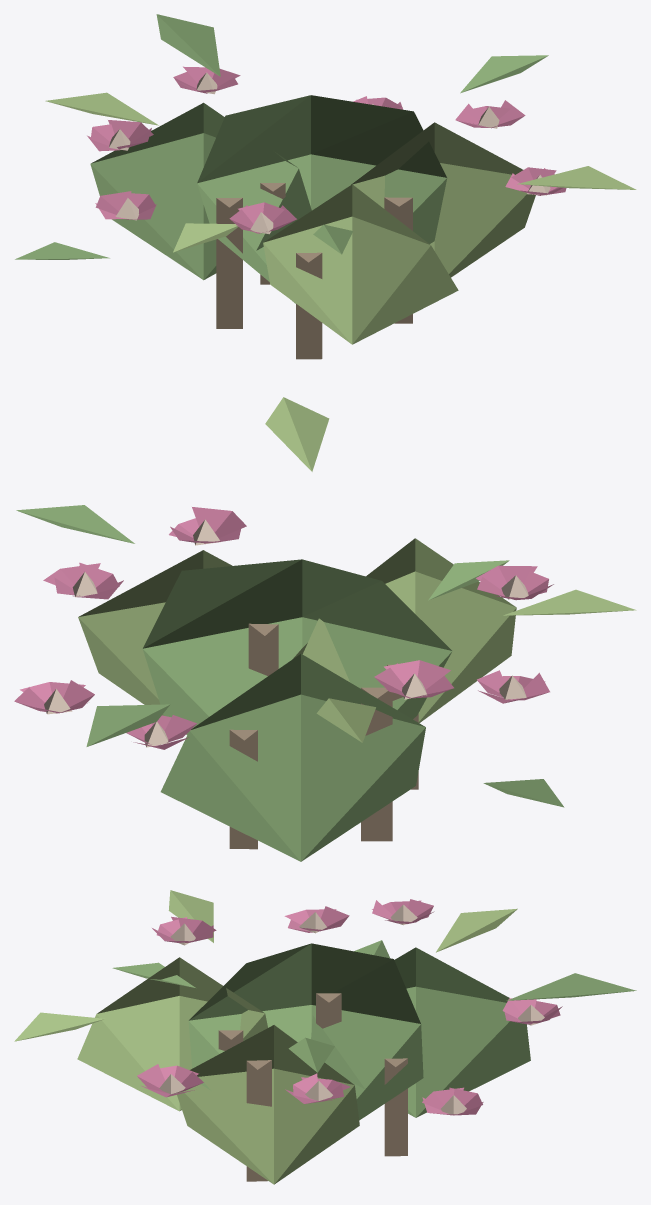
File: guan.aili@flowering__spring.glb
3 renders of one model, top to bottom at view 1: azimuth 30°, elevation 25°; view 2: azimuth 150°, elevation 25°; view 3: azimuth 270°, elevation 25°, orthographic. The views are drawn at different scales.
Visible parts, largest first — view 1: guan.aili@flowering__spring; view 2: guan.aili@flowering__spring; view 3: guan.aili@flowering__spring.
Boxes of the visible parts, x1,y1,x2,y2 form: guan.aili@flowering__spring: [15, 14, 636, 359]; guan.aili@flowering__spring: [14, 397, 636, 861]; guan.aili@flowering__spring: [14, 890, 636, 1184].
Bounding box in the file's own units: 2.07 × 0.8506 × 2.32.
